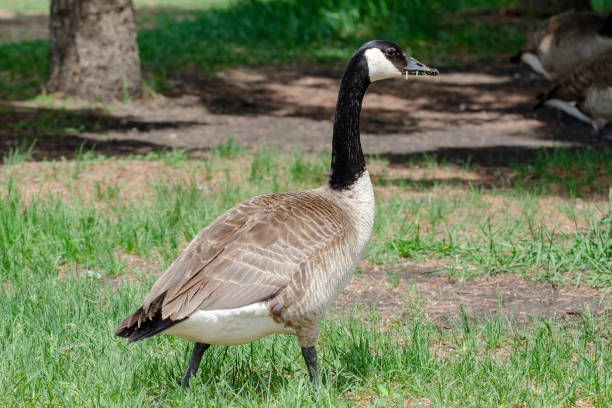goose: (106, 35, 442, 392)
